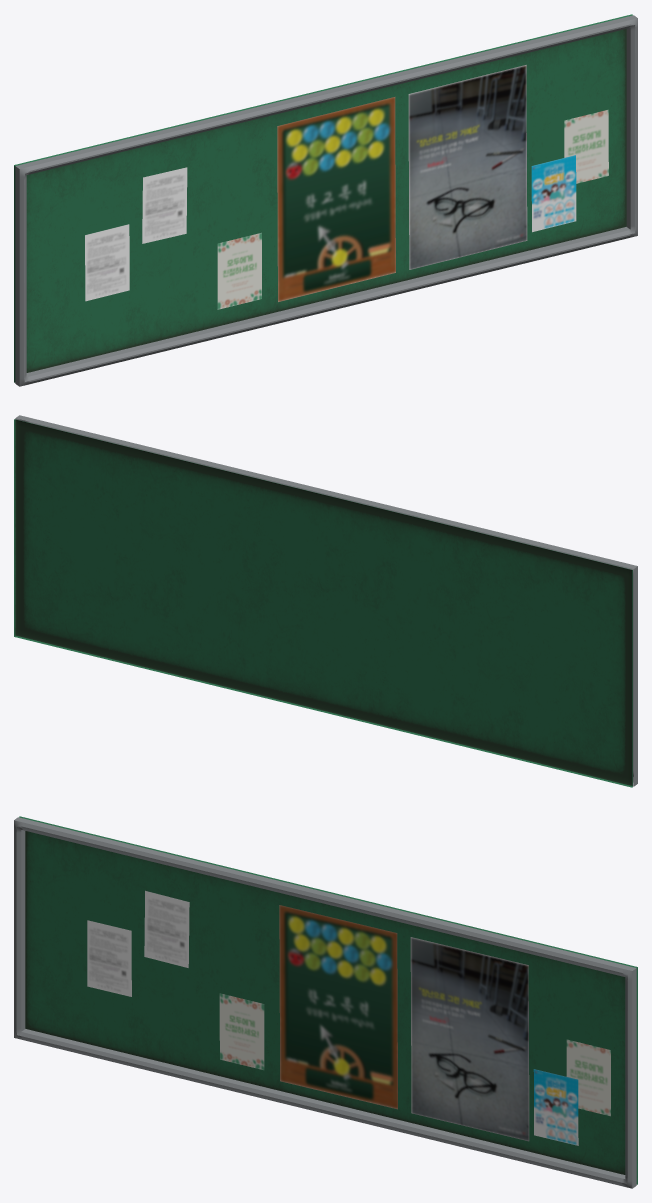
File: M_Board_hallway.fbx
The picture shows the model from 3 angles, top to bottom: view 1: azimuth 30°, elevation 25°; view 2: azimuth 150°, elevation 25°; view 3: azimuth 330°, elevation 25°; orthographic projection.
Visible parts, largest first — view 1: Board_hallway_GEO, hallway_posters_GEO; view 2: Board_hallway_GEO; view 3: Board_hallway_GEO, hallway_posters_GEO.
Part boxes in pixels (bbox=[...]): Board_hallway_GEO: bbox=[14, 14, 637, 386]; hallway_posters_GEO: bbox=[85, 65, 608, 309]; Board_hallway_GEO: bbox=[14, 415, 637, 787]; Board_hallway_GEO: bbox=[14, 816, 637, 1188]; hallway_posters_GEO: bbox=[87, 890, 610, 1145].
Size of the model in its own units: 65.95 by 22.18 by 1.28.
2 materials, 2 textured.
